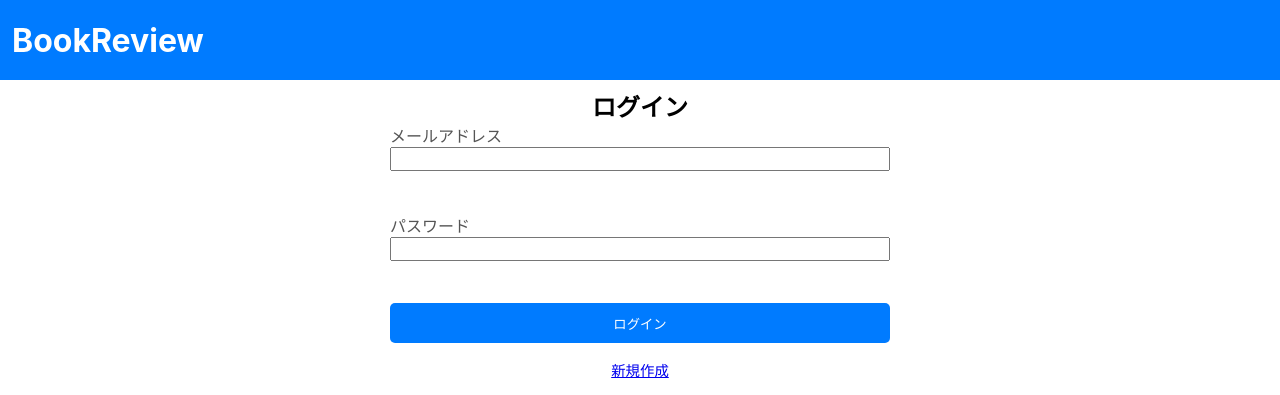
login page test › displays error messages for invalid inputs
The width and height of the screenshot is (1280, 395).
Click the button with class "login-button" at {"x": 640, "y": 323}, box [390, 303, 890, 343]
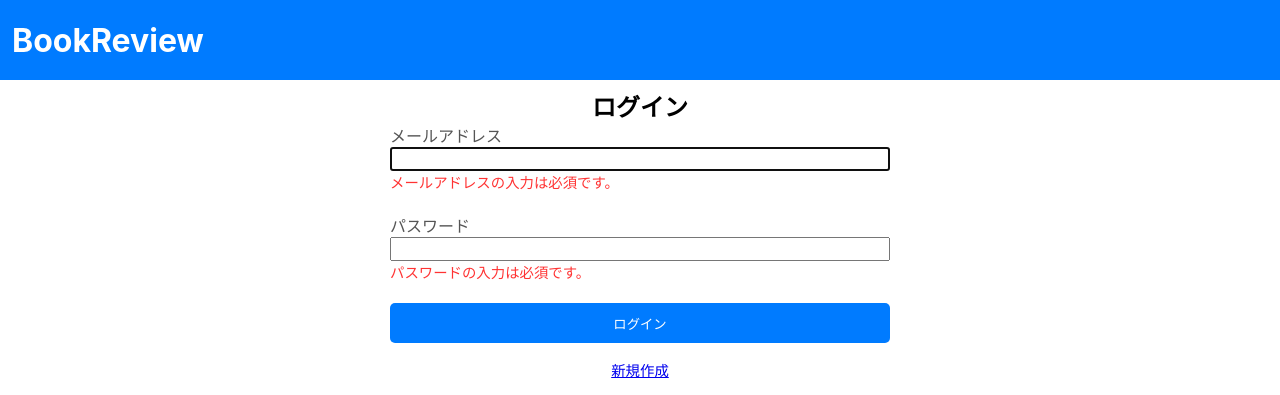
Expected: the message "メールアドレスの入力は必須です。" is shown, [390, 174, 619, 191]
